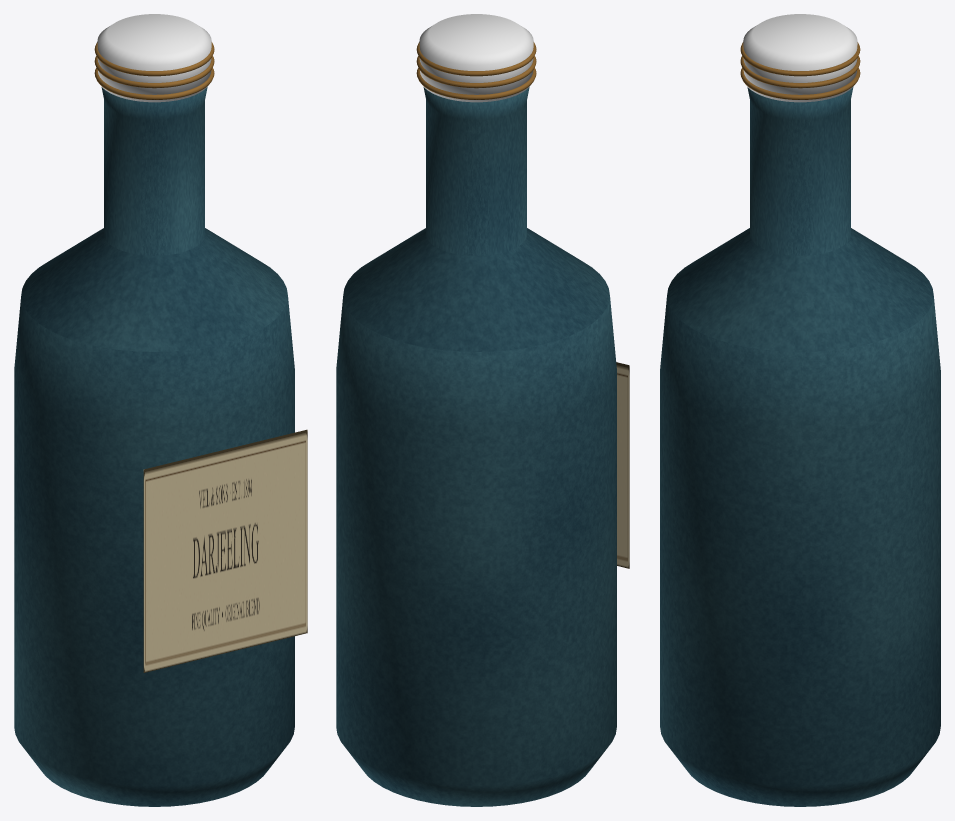
Rendered from Wine.fbx.
3 renders of one model, left to right at view 1: azimuth 30°, elevation 25°; view 2: azimuth 150°, elevation 25°; view 3: azimuth 270°, elevation 25°, orthographic.
Parts seen in each view (by area): view 1: Wine_BlueGlaze, Wine_Decals, Wine_Walnut, Wine_Brass; view 2: Wine_BlueGlaze, Wine_Walnut, Wine_Decals, Wine_Brass; view 3: Wine_BlueGlaze, Wine_Walnut, Wine_Brass.
Boxes of the visible parts, box(x1,y1,x2,y2) form: Wine_BlueGlaze: box(14, 87, 294, 806); Wine_Decals: box(143, 429, 307, 672); Wine_Walnut: box(97, 14, 211, 102); Wine_Brass: box(94, 42, 214, 99); Wine_BlueGlaze: box(336, 87, 616, 806); Wine_Walnut: box(419, 14, 533, 102); Wine_Decals: box(616, 362, 629, 568); Wine_Brass: box(416, 42, 536, 99); Wine_BlueGlaze: box(660, 87, 940, 806); Wine_Walnut: box(743, 14, 857, 102); Wine_Brass: box(740, 42, 860, 99).
Size of the model in its own units: 15 by 42.6 by 15.1.
